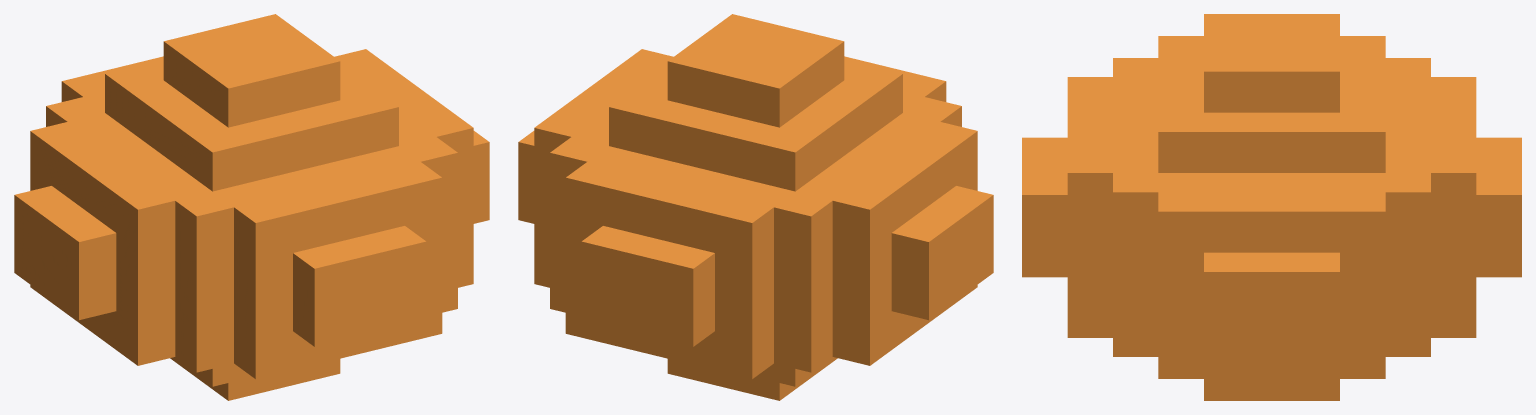
File: ball.obj
3 renders of one model, left to right at view 1: azimuth 30°, elevation 25°; view 2: azimuth 150°, elevation 25°; view 3: azimuth 270°, elevation 25°, orthographic. The views are drawn at different scales.
Size of the model in its own units: 1.1 by 0.8 by 1.1.
1 material, 1 textured.
